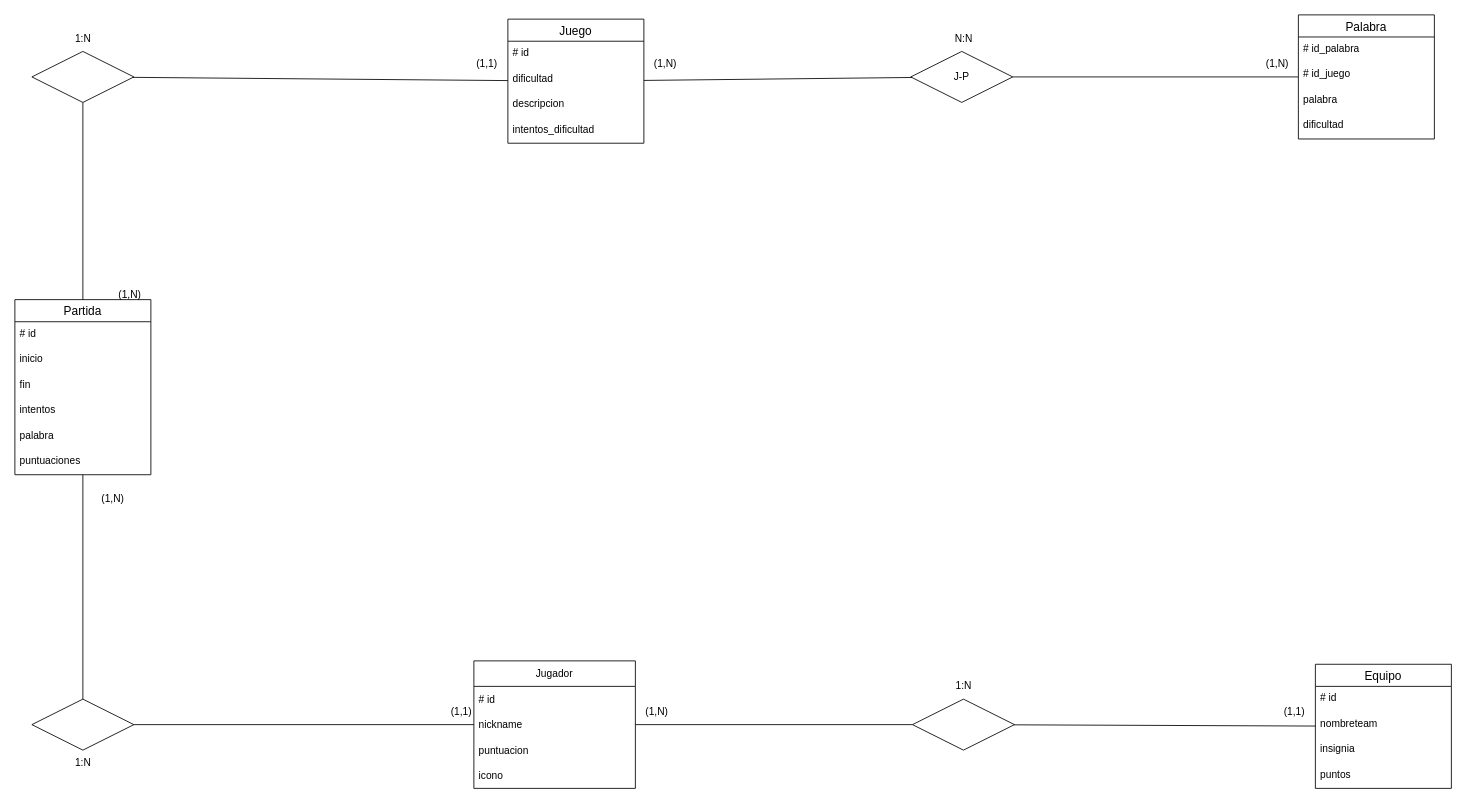
Image size: 1466x806. Some labels were removed from this diagram. Here are the shapes that lost their labels. From the top down, the centre of each, then its label:
At [82,76]: "es de".
At [82,724]: "juega".
At [963,724]: "pertenece".
